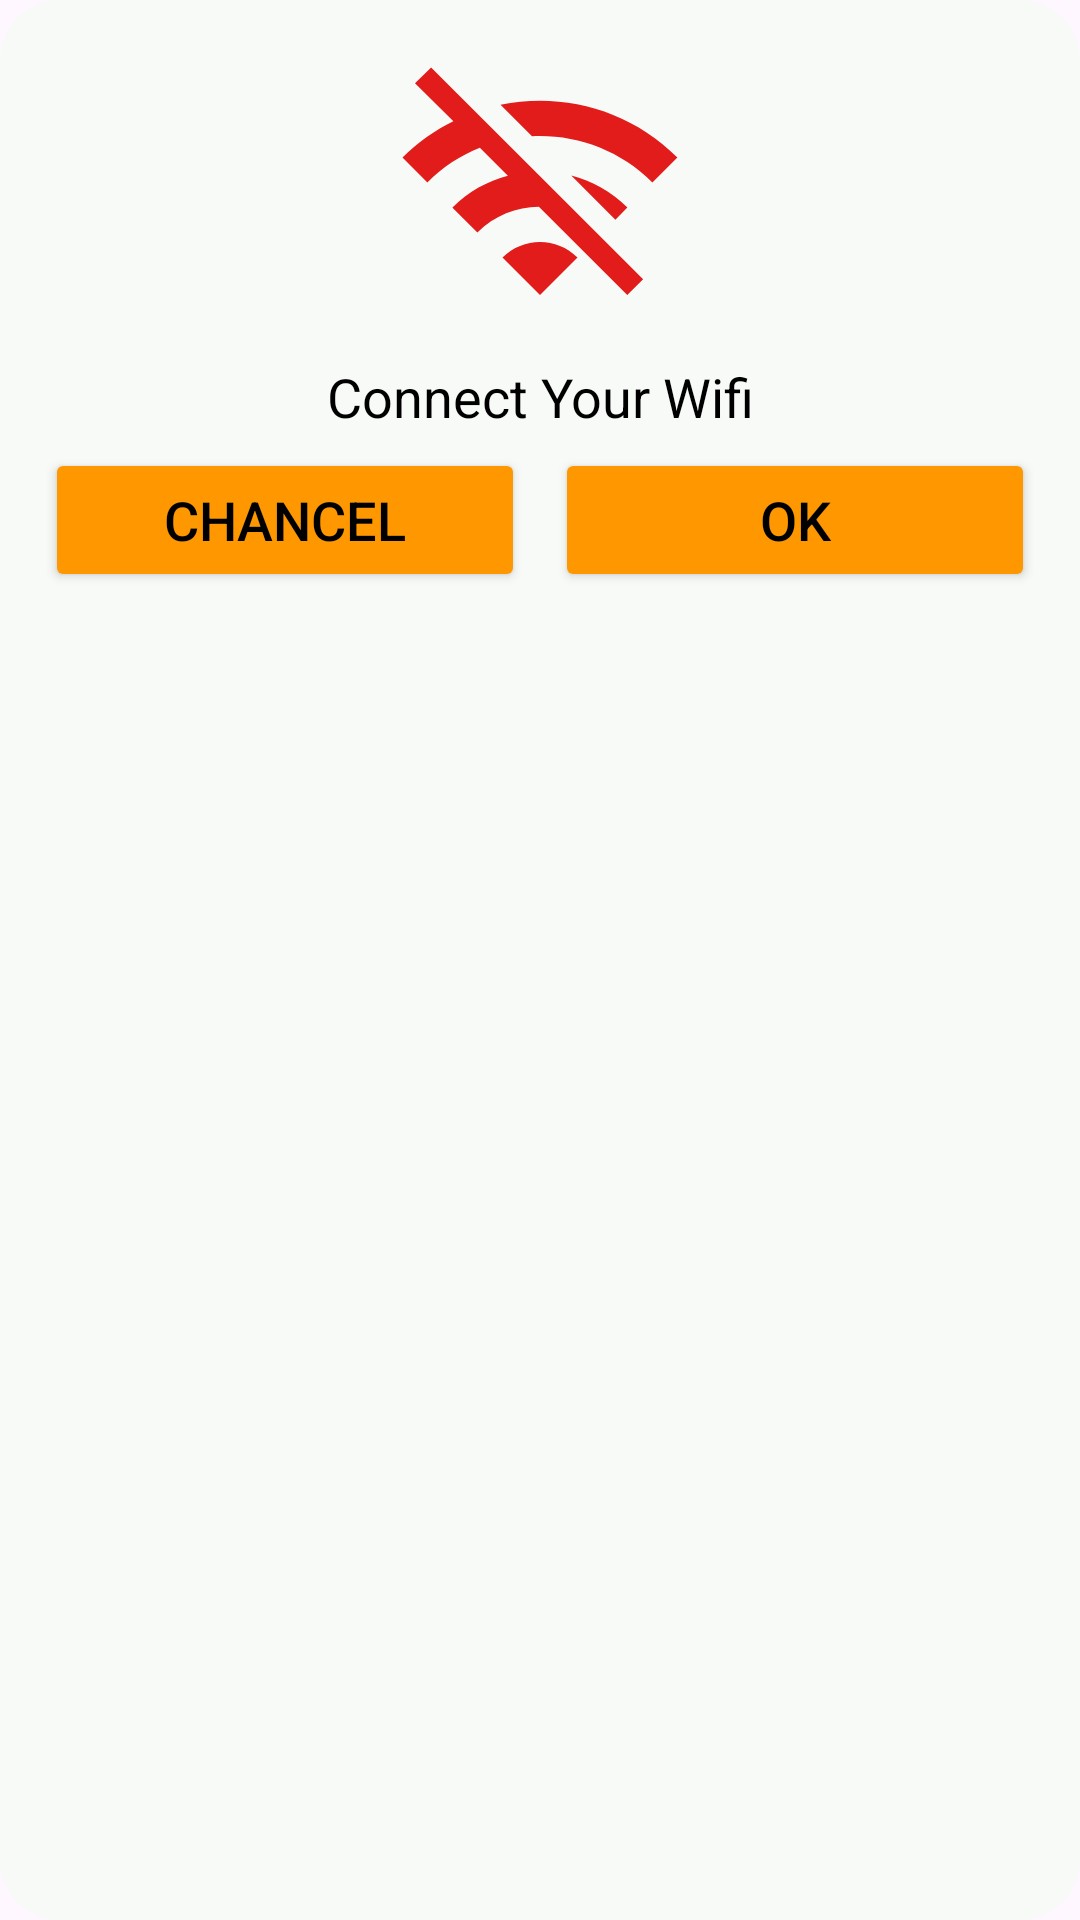

Where icons sit on this 1080px×1920px app screen, as (x1, y1, x2, y2):
wifi off: (402, 67, 678, 295)
